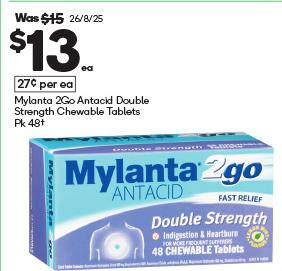description_block: (8, 96, 154, 128)
price_main: (7, 26, 107, 74)
product_image_block: (19, 131, 277, 268)
promo_text_block: (6, 8, 113, 25)
unit_price_block: (7, 74, 80, 94)
